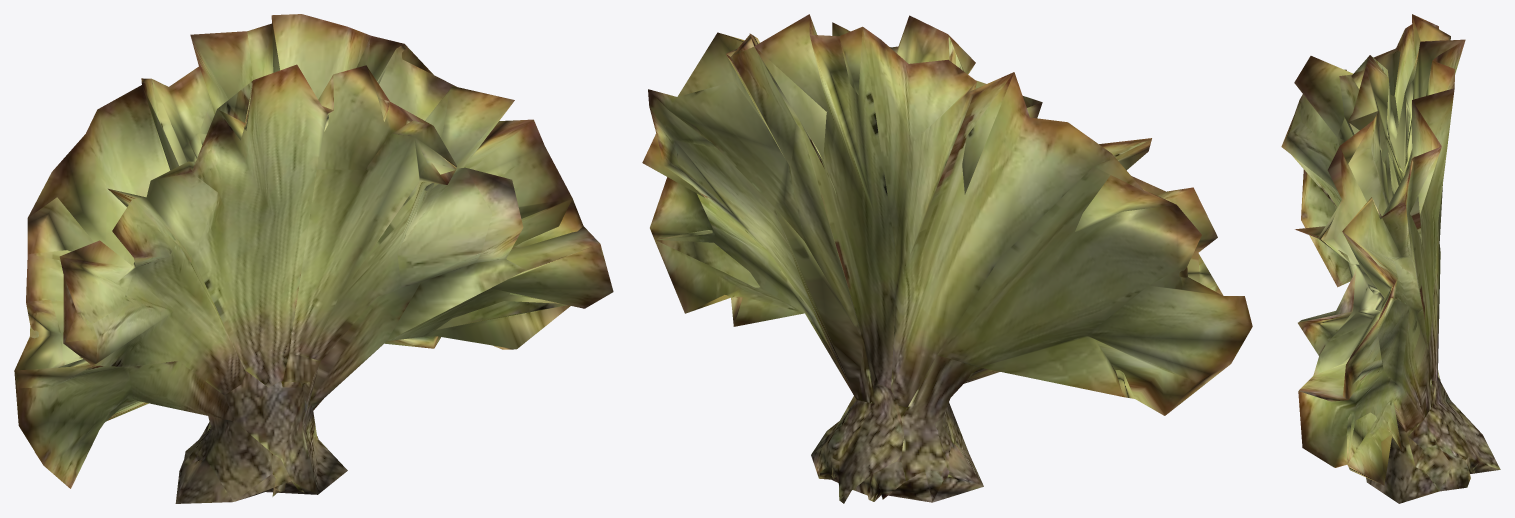
File: fanweed-far.glb
3 views of the same model, side by side, from view 1: azimuth 30°, elevation 25°; view 2: azimuth 150°, elevation 25°; view 3: azimuth 270°, elevation 25° (orthographic). The views are drawn at different scales.
Parts seen in each view (by area): view 1: model; view 2: model; view 3: model.
Part boxes in pixels (x1,y1,x2,y2): model: [14, 14, 613, 503]; model: [642, 14, 1252, 503]; model: [1281, 14, 1500, 503].
Bounding box in the file's own units: 1.88 × 1.37 × 0.6443.
Materials: 1 (1 with a texture image).
